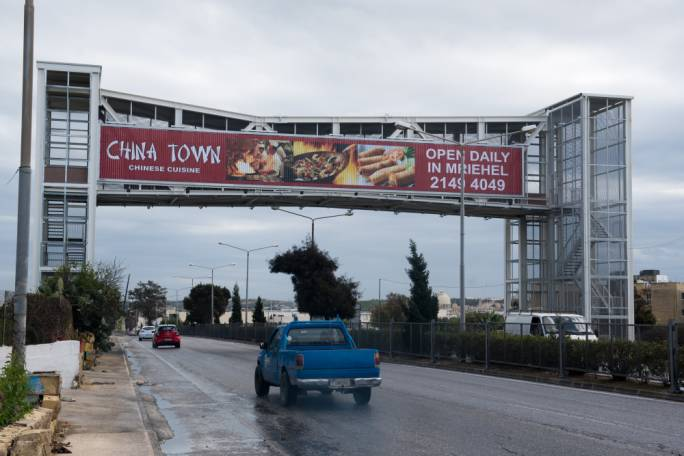bridge: (33, 60, 634, 358)
